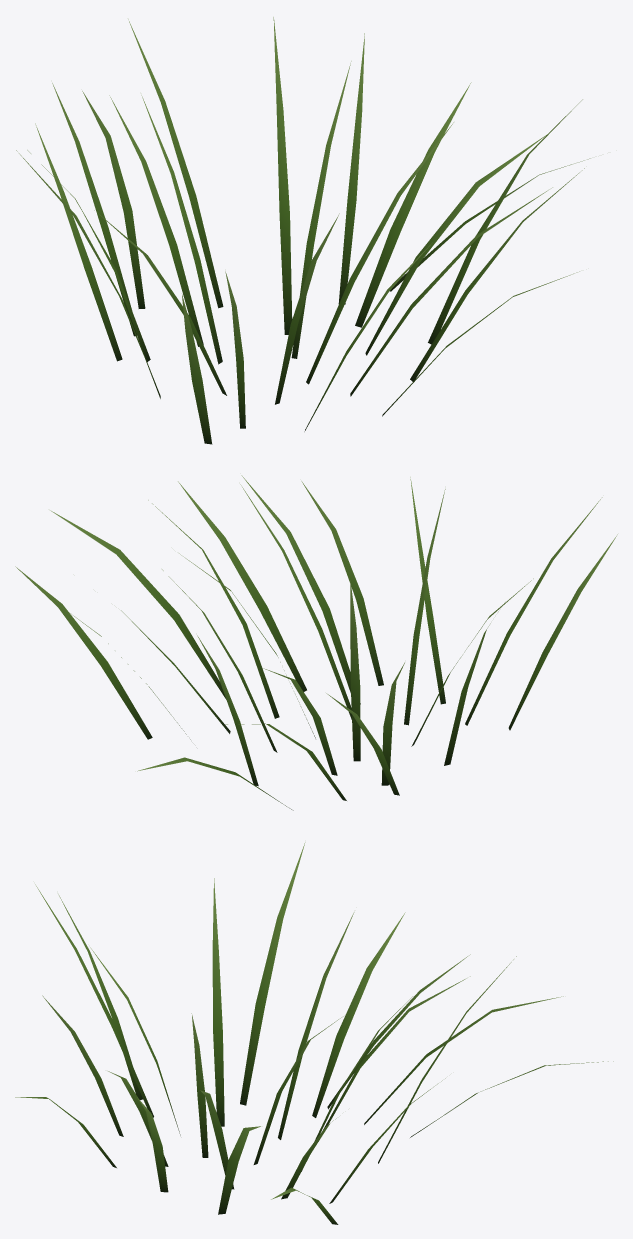
The model's file is b612_veg_VL_Grass_Short_B_0.glb.
3 renders of one model, top to bottom at view 1: azimuth 30°, elevation 25°; view 2: azimuth 150°, elevation 25°; view 3: azimuth 270°, elevation 25°, orthographic. The views are drawn at different scales.
Parts seen in each view (by area): view 1: Grass_Short_B_LOD0; view 2: Grass_Short_B_LOD0; view 3: Grass_Short_B_LOD0.
Part boxes in pixels (box(x1,y1,x2,y2)): Grass_Short_B_LOD0: box(16, 17, 590, 444); Grass_Short_B_LOD0: box(15, 475, 617, 810); Grass_Short_B_LOD0: box(15, 842, 613, 1224).
Size of the model in its own units: 0.2543 by 0.1046 by 0.2624.
